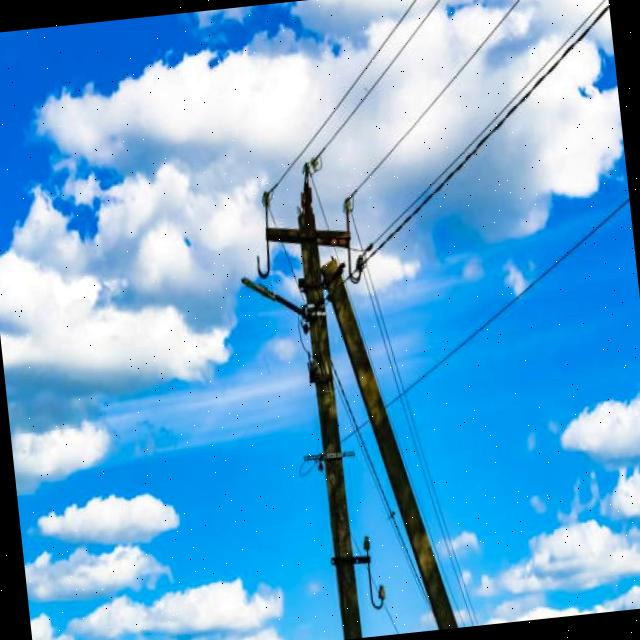Broken Pole: (319, 258, 459, 627)
